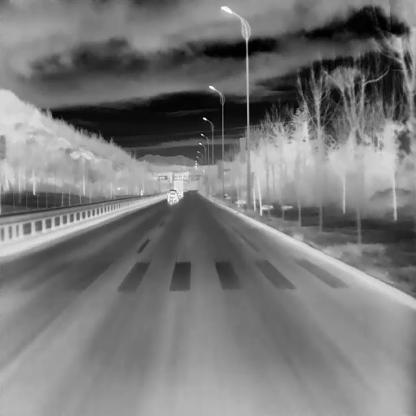car: (166, 189, 180, 203)
truck: (173, 180, 183, 196)
